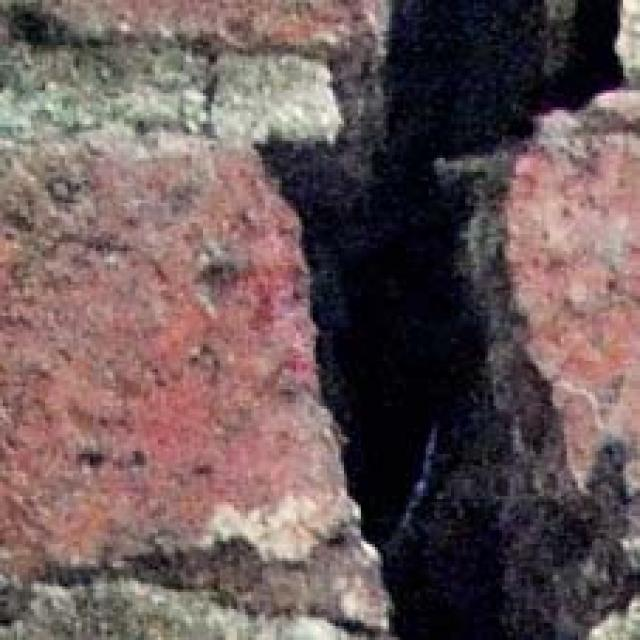Crack: (176, 6, 640, 640)
